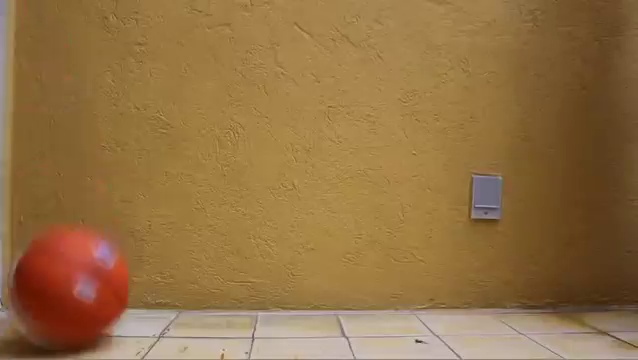ball: (7, 219, 131, 353)
